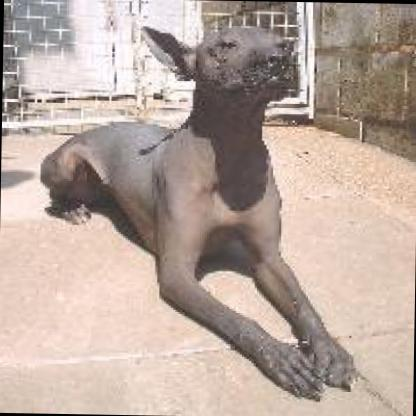Mexican_hairless: (32, 18, 368, 402)
